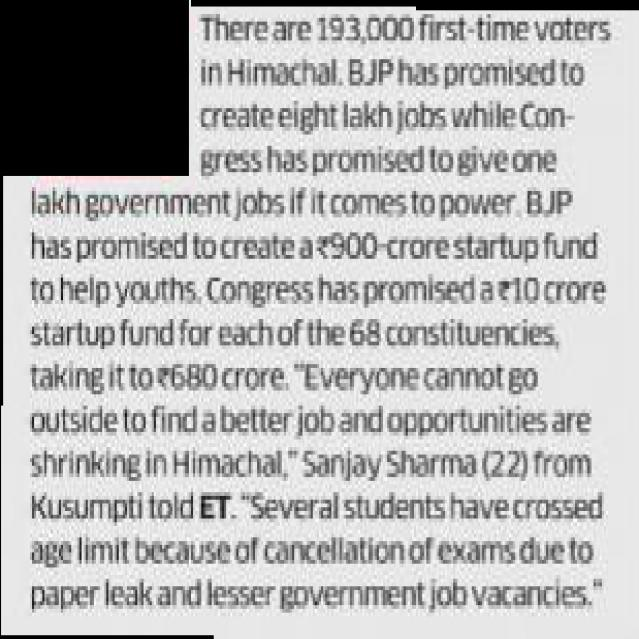paper: (0, 1, 639, 639)
